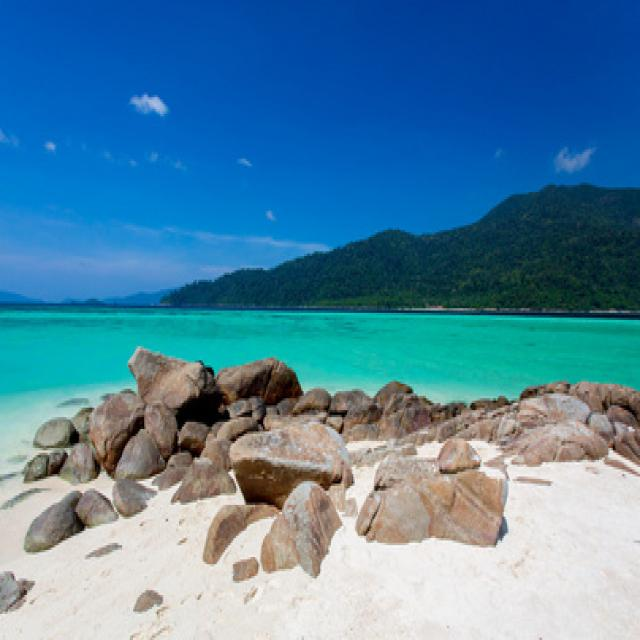island: (147, 159, 640, 327)
